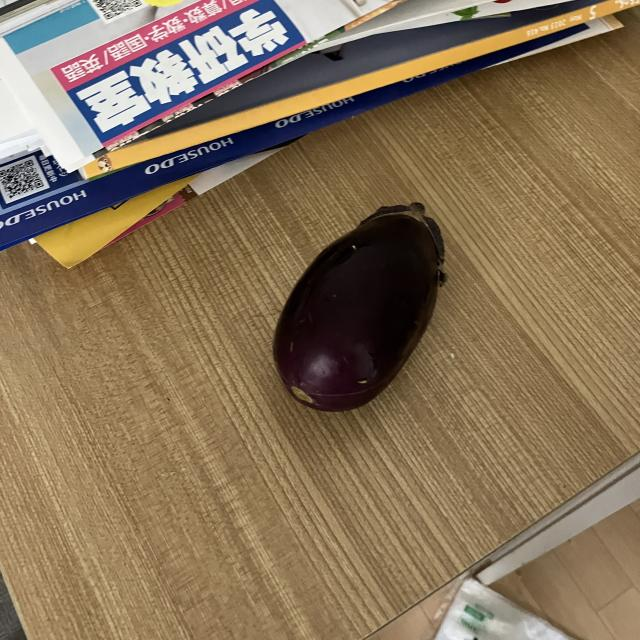eggplant: (270, 199, 450, 413)
